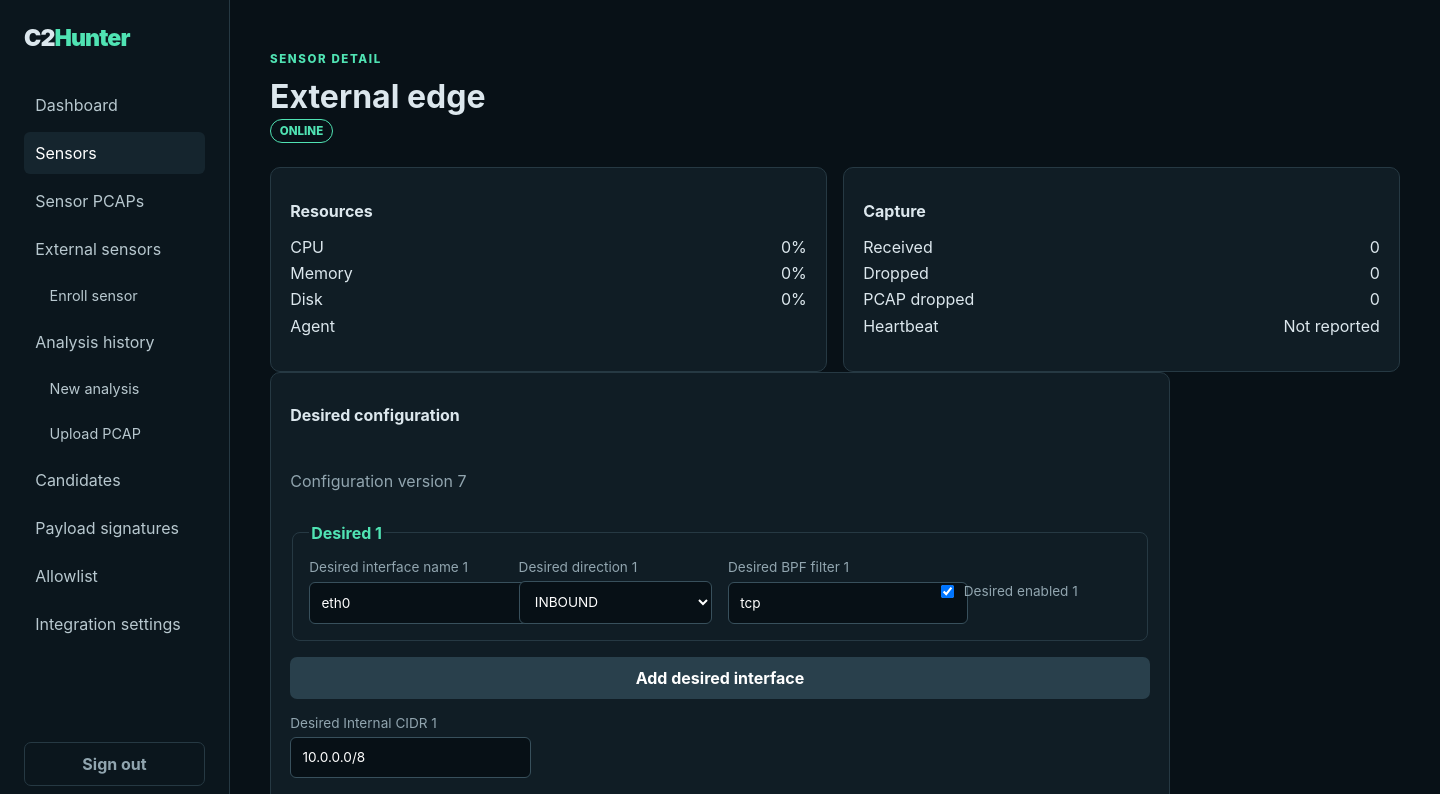
Scenario: External sensor configuration and credentials › saves with expected_version and reports an optimistic version conflict
Expected: the heading "Desired configuration" is shown, [290,406,460,426]
Select "OUTBOUND" in the dropdown labelled "Desired direction 1": (615, 602) [519,581,712,624]
(page scrolled)
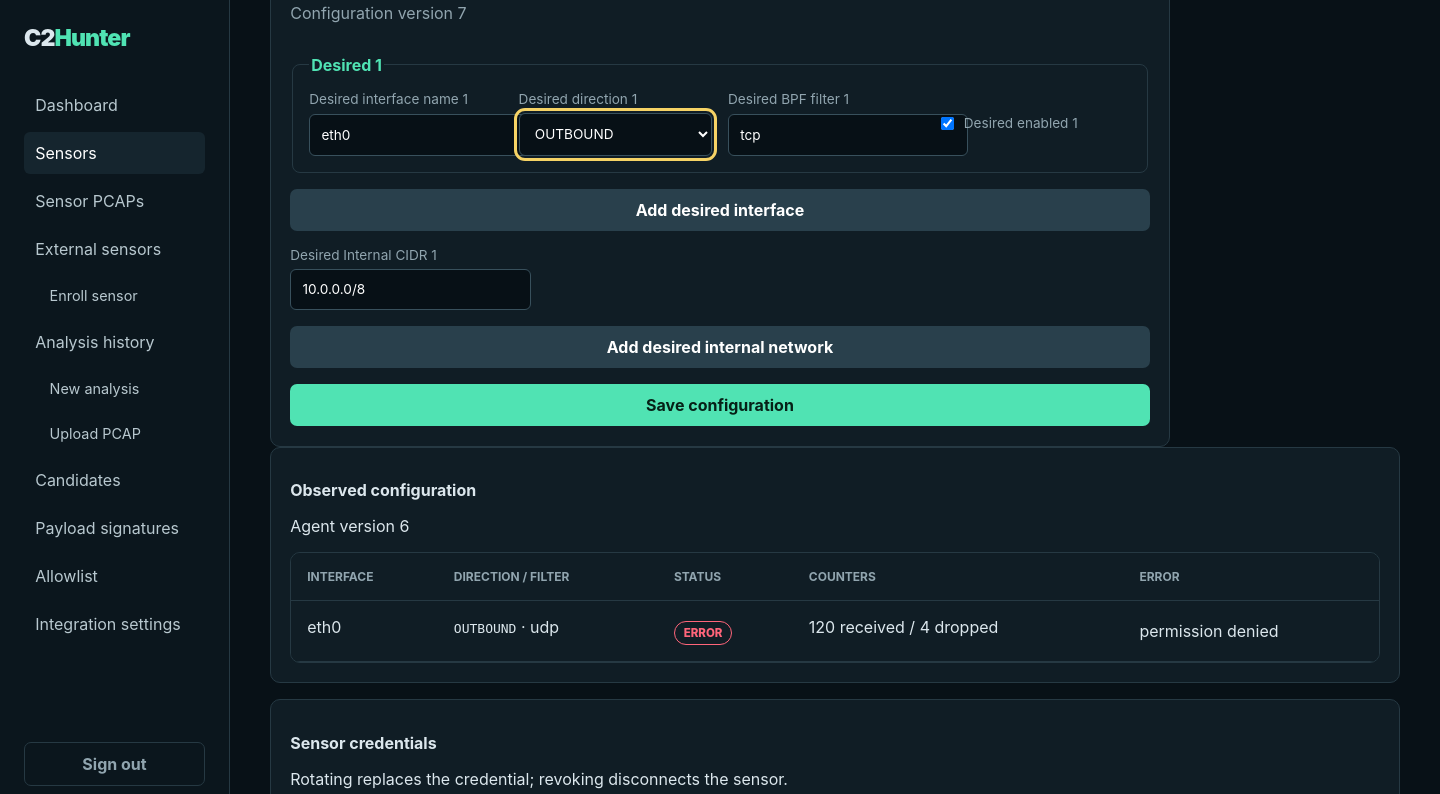
Click the button "Save configuration": (720, 405) [290,384,1150,426]
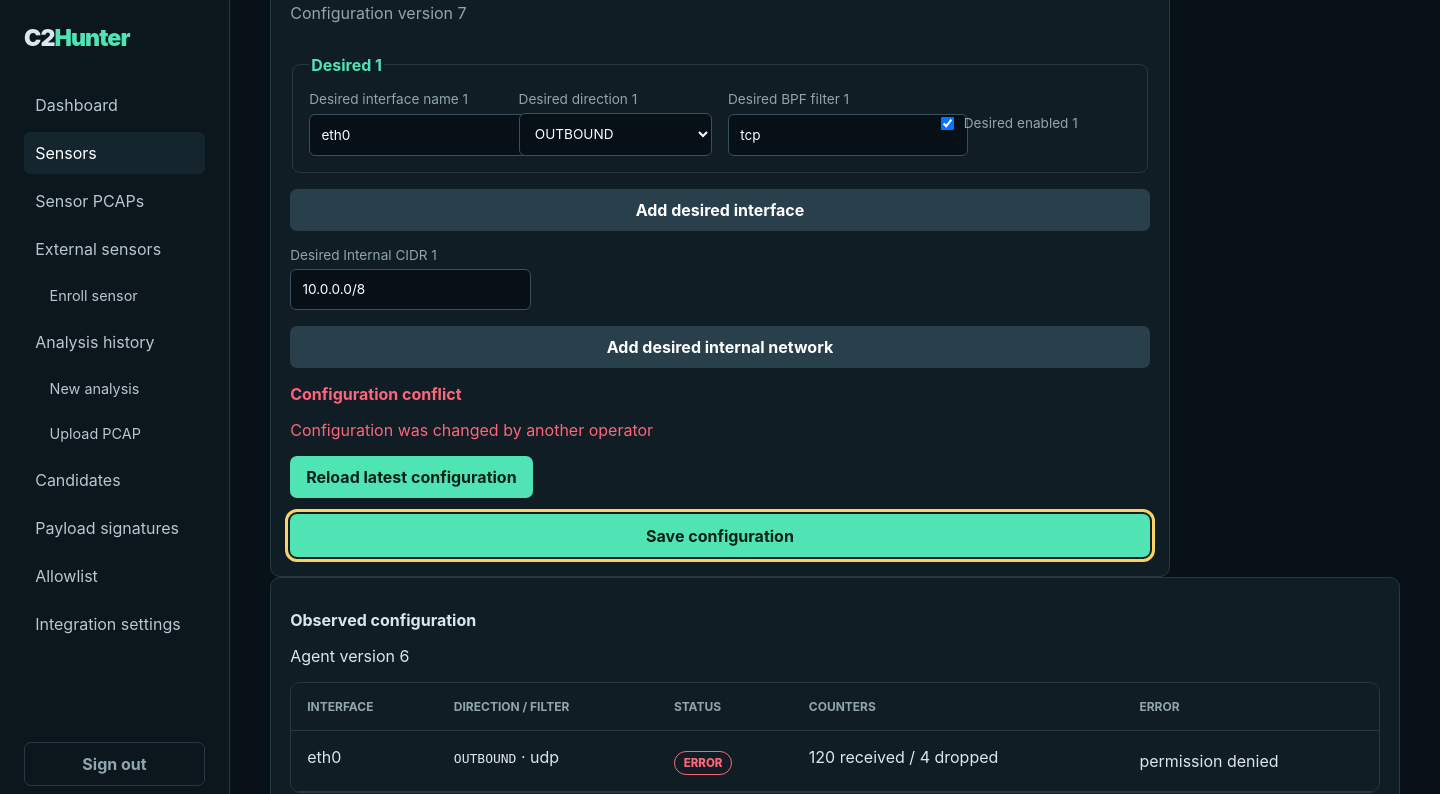
Expected: the text "Configuration was changed by another operator" is shown, [290,420,653,440]
Expected: the button "Reload latest configuration" is shown, [290,456,533,498]
